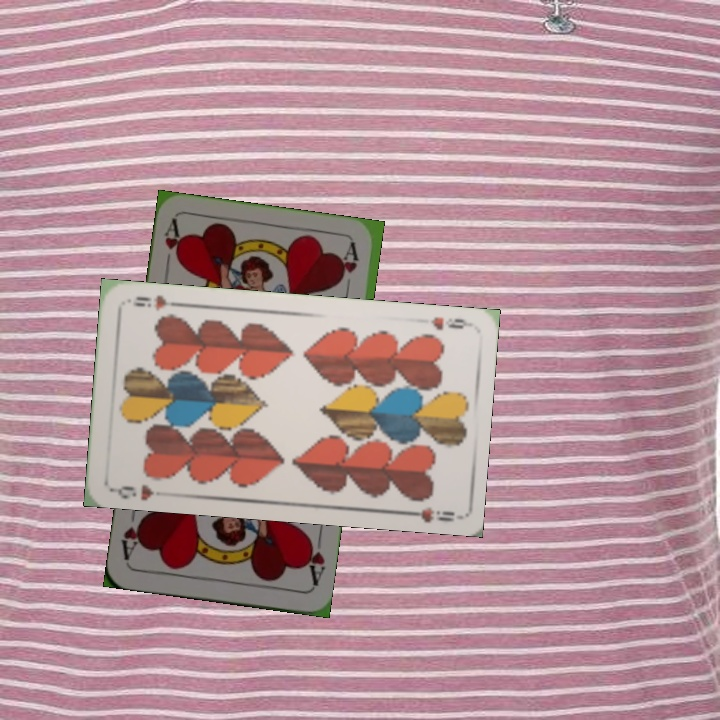H9: (109, 480, 157, 502), (426, 312, 473, 333)
HA: (300, 530, 328, 589), (160, 217, 186, 276)
